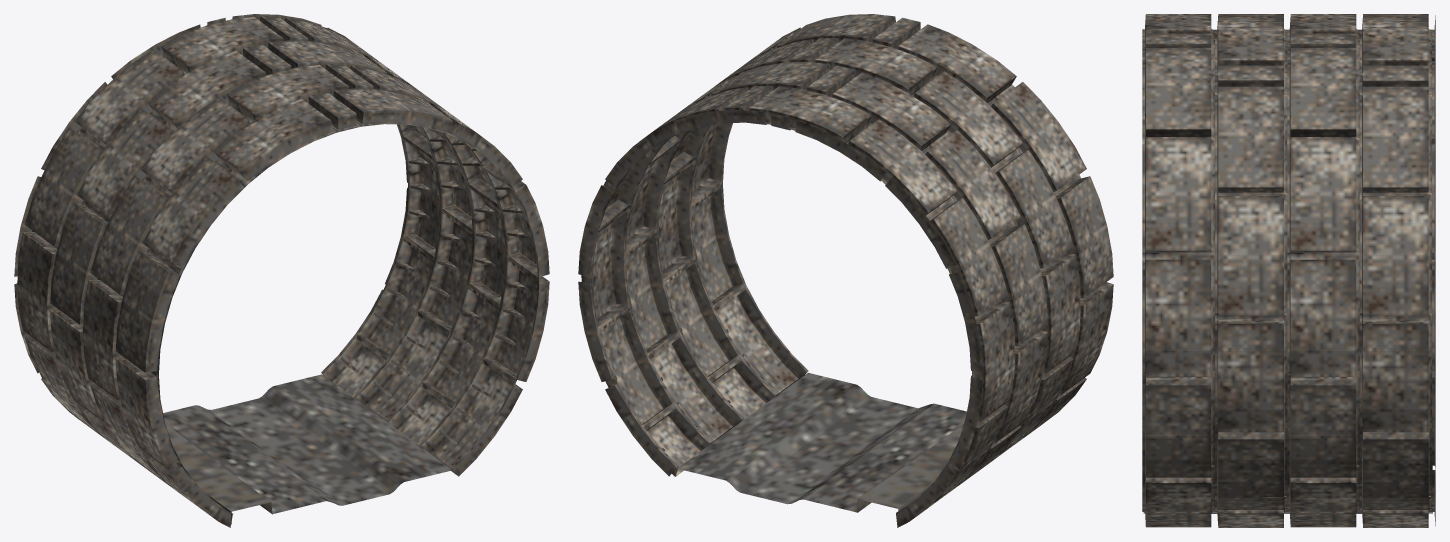
File: tunnel_new.obj
3 views of the same model, side by side, from view 1: azimuth 30°, elevation 25°; view 2: azimuth 150°, elevation 25°; view 3: azimuth 270°, elevation 25° (orthographic). The views are drawn at different scales.
Parts seen in each view (by area): view 1: wpn_sekach; view 2: wpn_sekach; view 3: wpn_sekach.
Boxes of the visible parts, x1,y1,x2,y2 form: wpn_sekach: [14, 14, 549, 527]; wpn_sekach: [578, 14, 1113, 527]; wpn_sekach: [1142, 14, 1435, 527].
Size of the model in its own units: 9.51 by 8.77 by 5.4.
